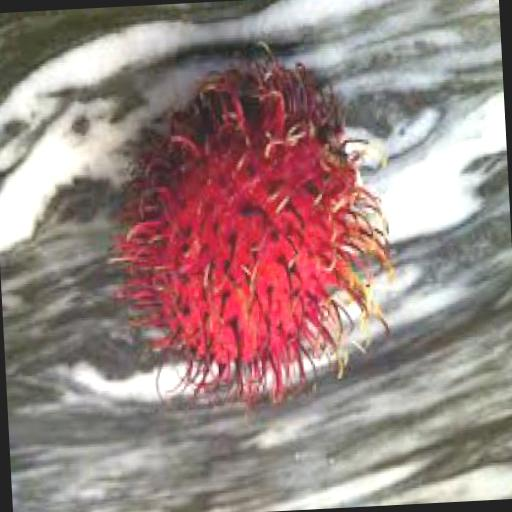biodegradable: (98, 38, 396, 414)
